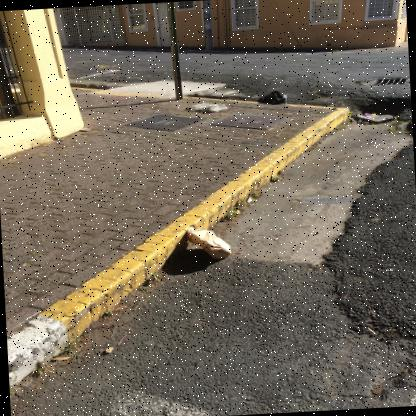Drink carton: (357, 119, 369, 124)
Garbage bag: (257, 92, 288, 104)
Other carton: (362, 113, 379, 118)
Paper bag: (187, 226, 231, 259)
